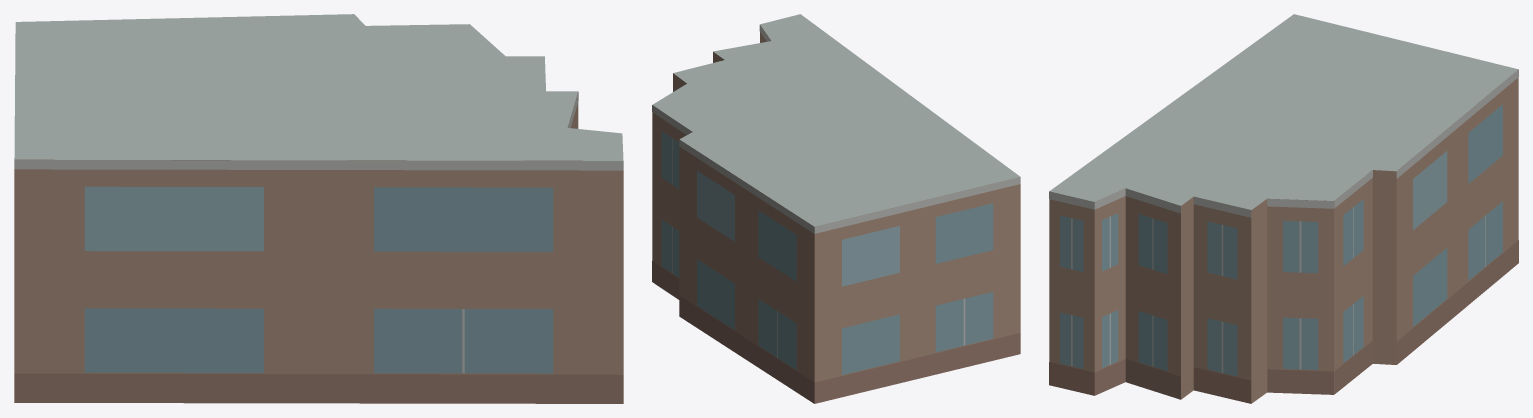
The model's file is survey-upis-32683087.glb.
The picture shows the model from 3 angles, left to right: view 1: azimuth 30°, elevation 25°; view 2: azimuth 150°, elevation 25°; view 3: azimuth 270°, elevation 25°; orthographic projection. The views are drawn at different scales.
Visible parts, largest first — view 1: survey-upis-32683087.tmp; view 2: survey-upis-32683087.tmp; view 3: survey-upis-32683087.tmp.
Part boxes in pixels (<box>): survey-upis-32683087.tmp: <box>14,14,623,403</box>; survey-upis-32683087.tmp: <box>652,14,1020,403</box>; survey-upis-32683087.tmp: <box>1049,14,1518,403</box>.
Size of the model in its own units: 13.24 by 6.1 by 13.4.
